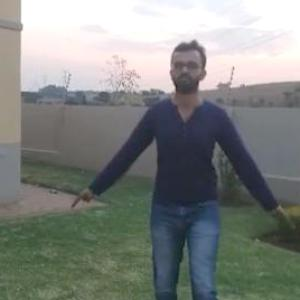land: (94, 46, 287, 297)
